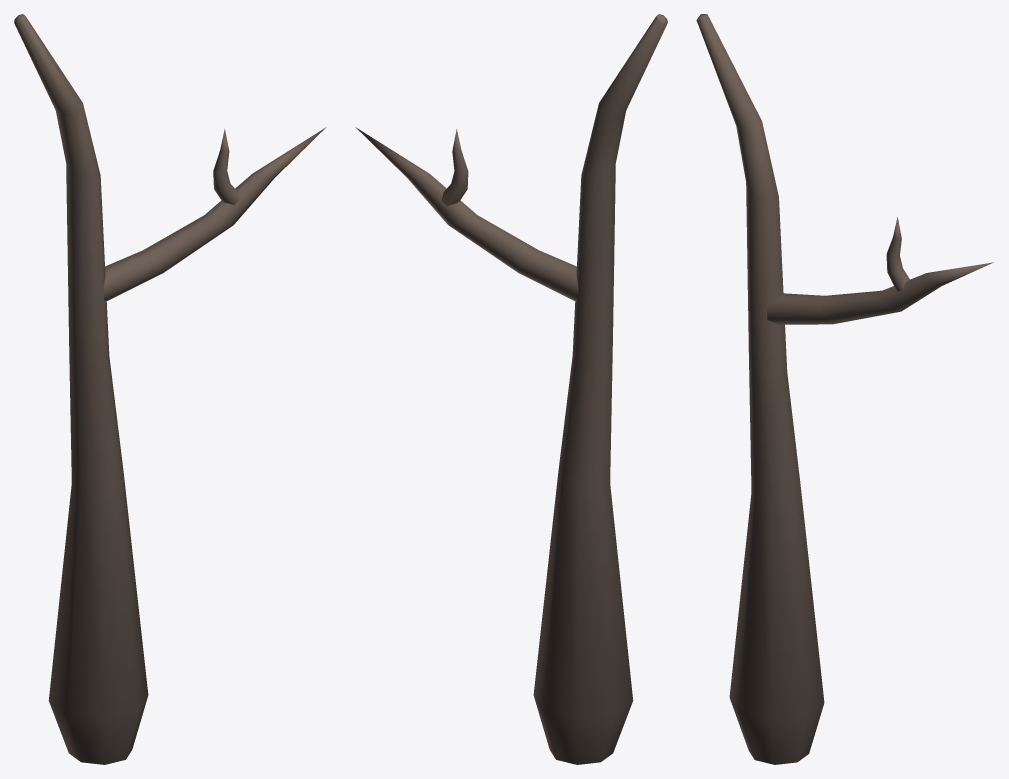
File: tree_dead_medium.glb
The picture shows the model from 3 angles, left to right: view 1: azimuth 30°, elevation 25°; view 2: azimuth 150°, elevation 25°; view 3: azimuth 330°, elevation 25°; orthographic projection. The views are drawn at different scales.
Visible parts, largest first — view 1: tree_dead_medium; view 2: tree_dead_medium; view 3: tree_dead_medium.
Part boxes in pixels (x1,y1,x2,y2): tree_dead_medium: (14,14,326,764); tree_dead_medium: (355,14,667,764); tree_dead_medium: (696,14,993,764).
Size of the model in its own units: 1.81 by 4.19 by 0.4667.
Materials: 1 (1 with a texture image).
